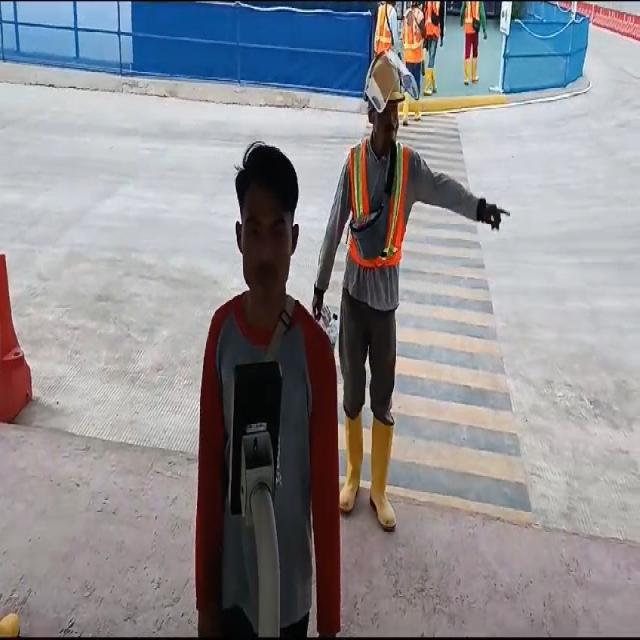gloves: (475, 198, 513, 238), (307, 288, 327, 321)
helmet: (361, 61, 413, 108)
safety_vest: (350, 138, 409, 263), (372, 5, 396, 54), (402, 9, 424, 60), (425, 0, 440, 40), (465, 0, 478, 34)
